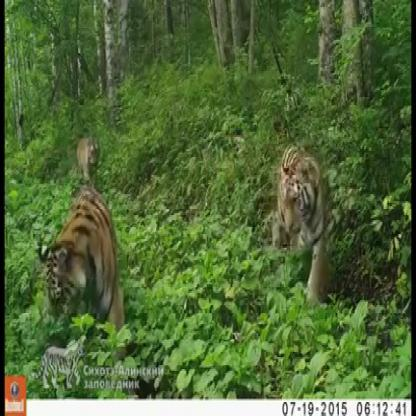Tiger: (28, 166, 132, 349)
